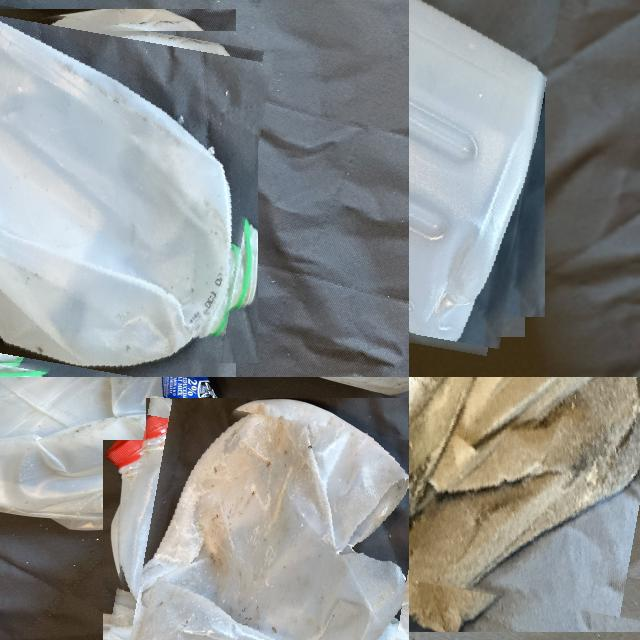milk-jug: (0, 5, 261, 377), (113, 407, 409, 640), (409, 377, 640, 606), (409, 0, 551, 341), (0, 377, 251, 528)
